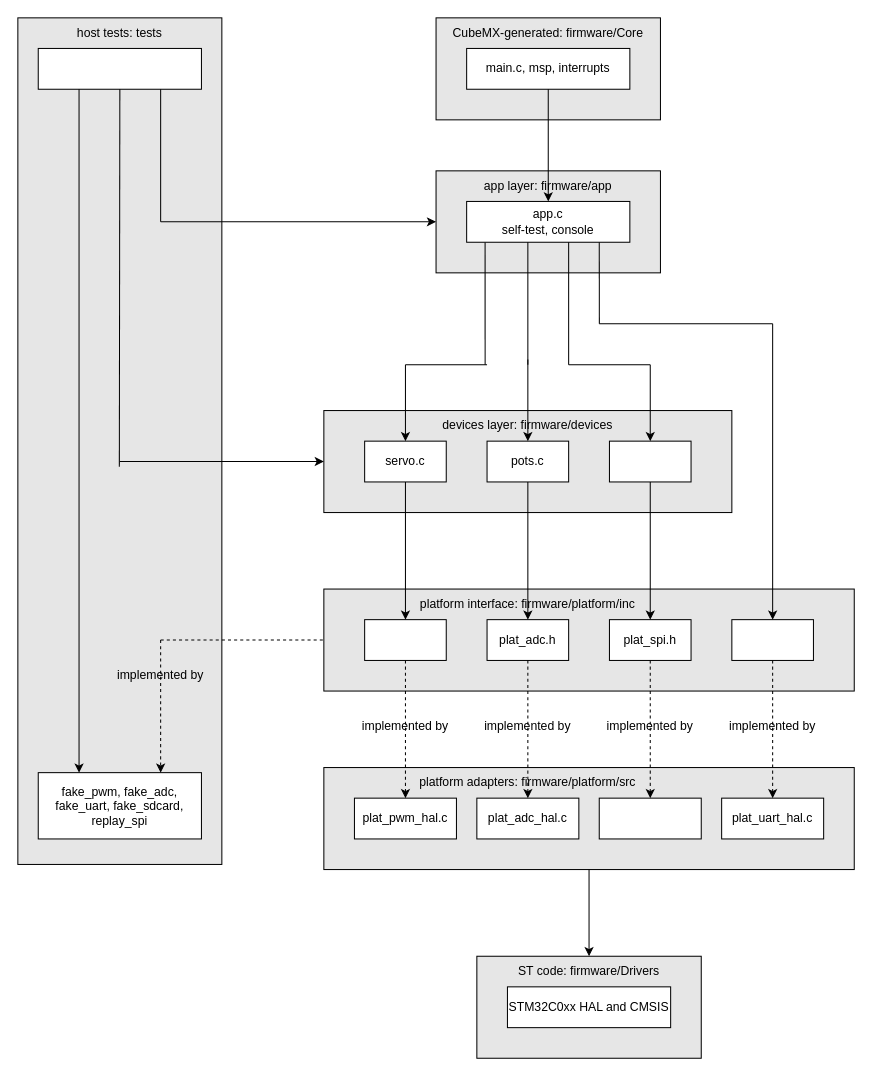
The diagram is 872 pixels wide and 1076 high, and some of its shapes have lost their labels. The shapes that lost their labels are listed below. From the top down, each one's box as (x1, y1, x2, y2) in pixels, then its label:
(37, 47, 201, 89): test_*.c with minitest.h
(608, 440, 691, 482): sdcard.c
(364, 619, 446, 660): plat_pwm.h
(731, 619, 813, 660): plat_uart.h
(598, 797, 701, 839): plat_spi_hal.c
